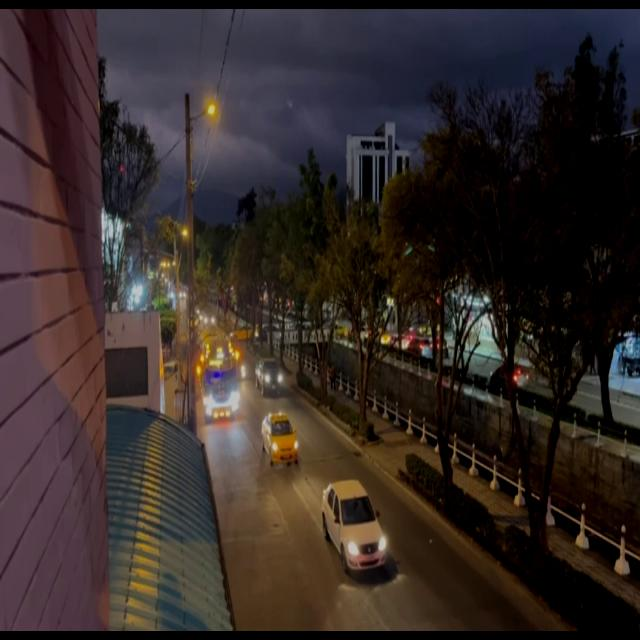SED: (326, 485, 386, 568), (265, 415, 298, 463)
